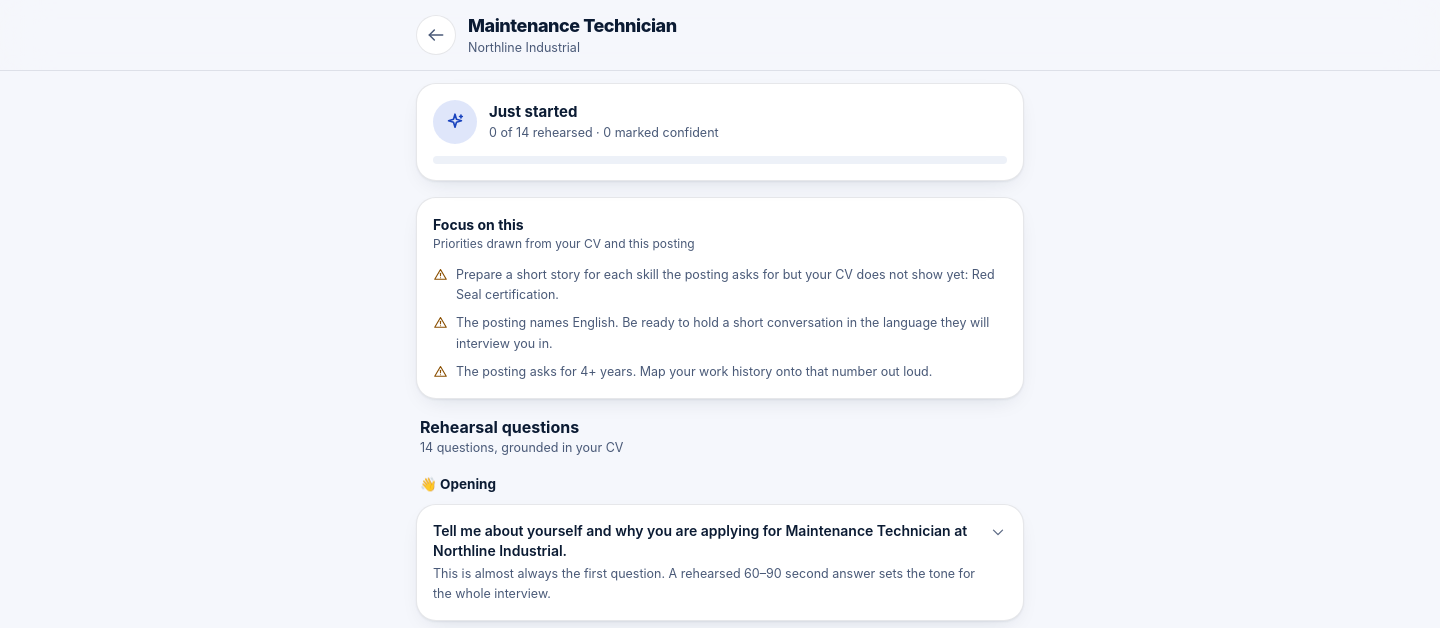
Scenario: InterviewScreen › grades a written answer and advances the readiness score
Expected: the heading "Rehearsal questions" is shown, [420,417,579,437]
The first question is collapsed until it is opened.
Click the 2nd button at (720, 563), box [417,505,1023,620]
(page scrolled)
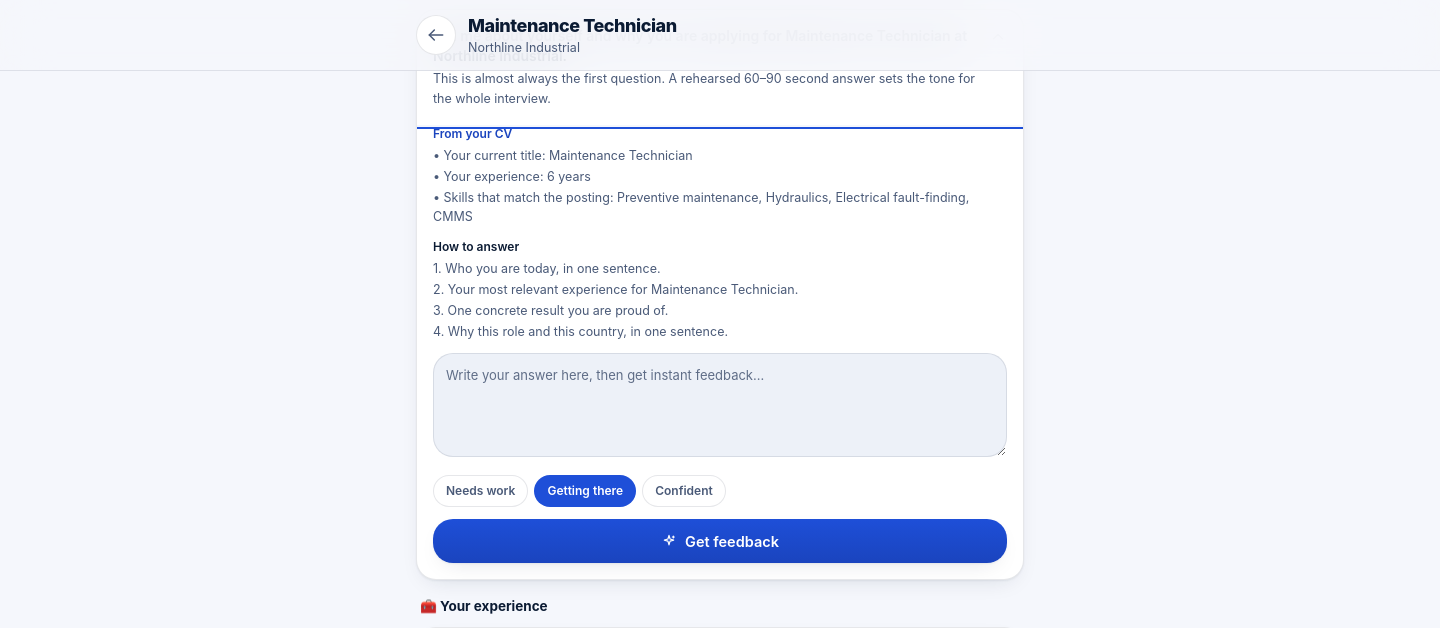
Type "In my last role I ran preventive maintenance on pumps and conveyors, cutting downtime by 20% over six months." into the text box with placeholder "Write your answer here, then get instant feedback…" at (720, 405), box [433,353,1007,457]
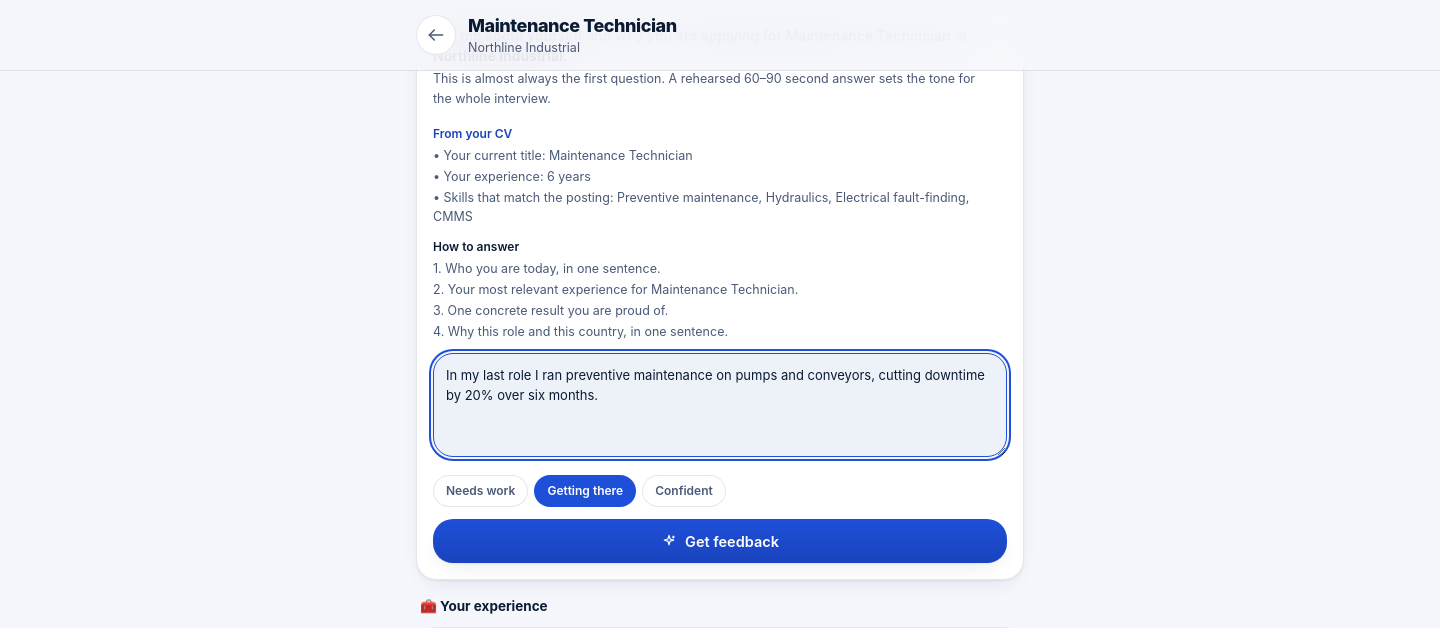
Click the button "Get feedback" at (720, 541), box [433,519,1007,563]
(page scrolled)
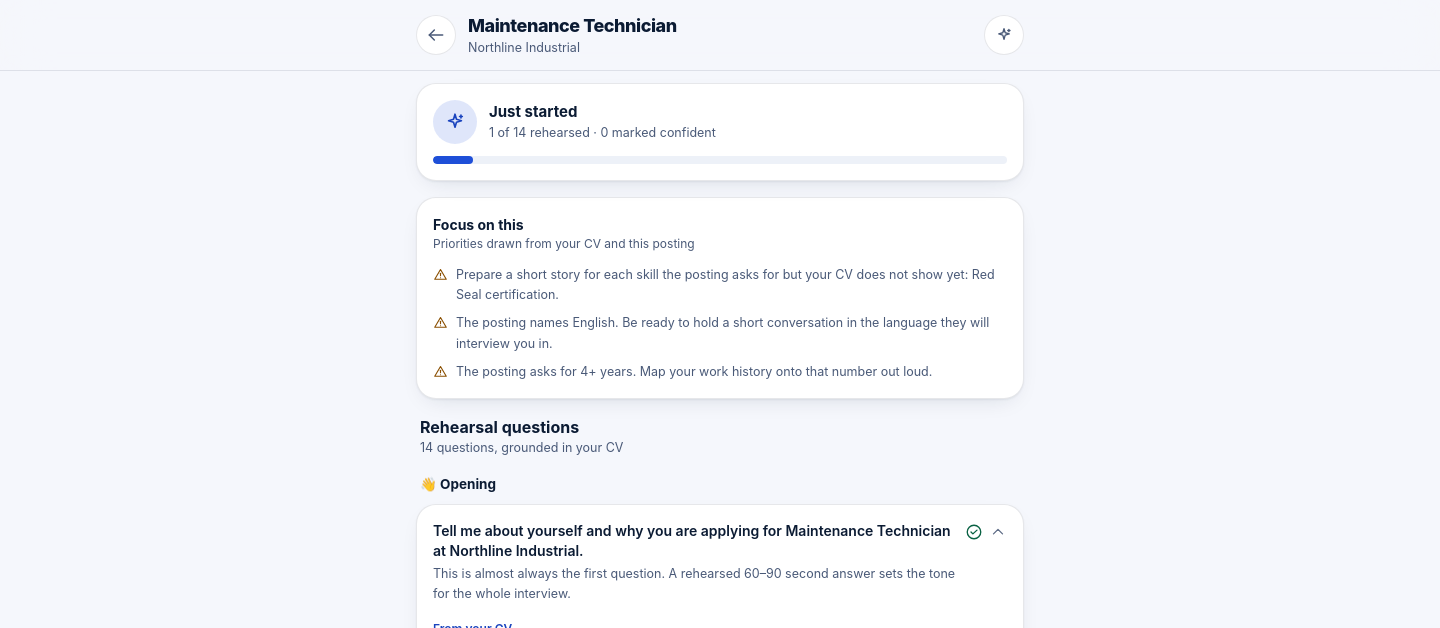
Result: the text "1 of 14 rehearsed · 0 marked confident" is shown at [489,125,716,140]
